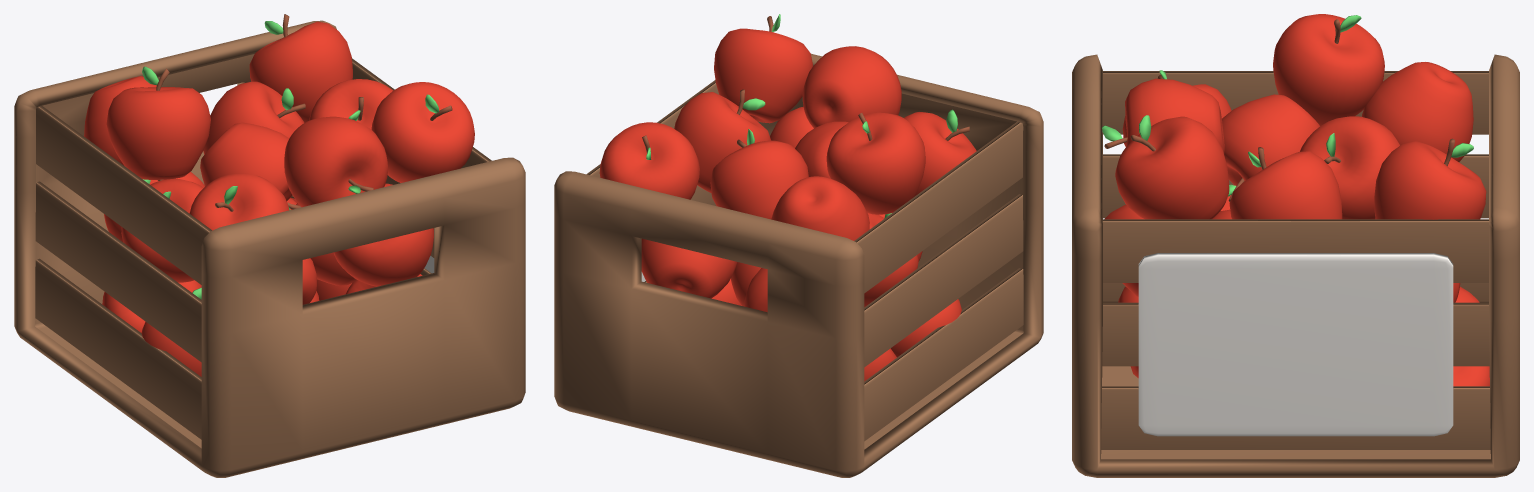
The model's file is ManzanasBox.fbx.
3 renders of one model, left to right at view 1: azimuth 30°, elevation 25°; view 2: azimuth 150°, elevation 25°; view 3: azimuth 270°, elevation 25°, orthographic. The views are drawn at different scales.
Visible parts, largest first — view 1: Cube.004, Sphere.035, Cube.005; view 2: Cube.004, Sphere.035, Cube.005; view 3: Cube.006, Sphere.035, Cube.005, Cube.004.
Part boxes in pixels (left/top/right/bottom): Cube.004: left=14, top=20, right=525, bottom=477; Sphere.035: left=84, top=14, right=474, bottom=376; Cube.005: left=35, top=58, right=491, bottom=439; Cube.004: left=554, top=53, right=1043, bottom=477; Sphere.035: left=599, top=14, right=976, bottom=381; Cube.005: left=586, top=80, right=1023, bottom=441; Cube.006: left=1138, top=253, right=1453, bottom=436; Sphere.035: left=1102, top=14, right=1489, bottom=386; Cube.005: left=1101, top=71, right=1490, bottom=449; Cube.004: left=1072, top=54, right=1519, bottom=477.
Bounding box in the file's own units: 161 × 149 × 180.
